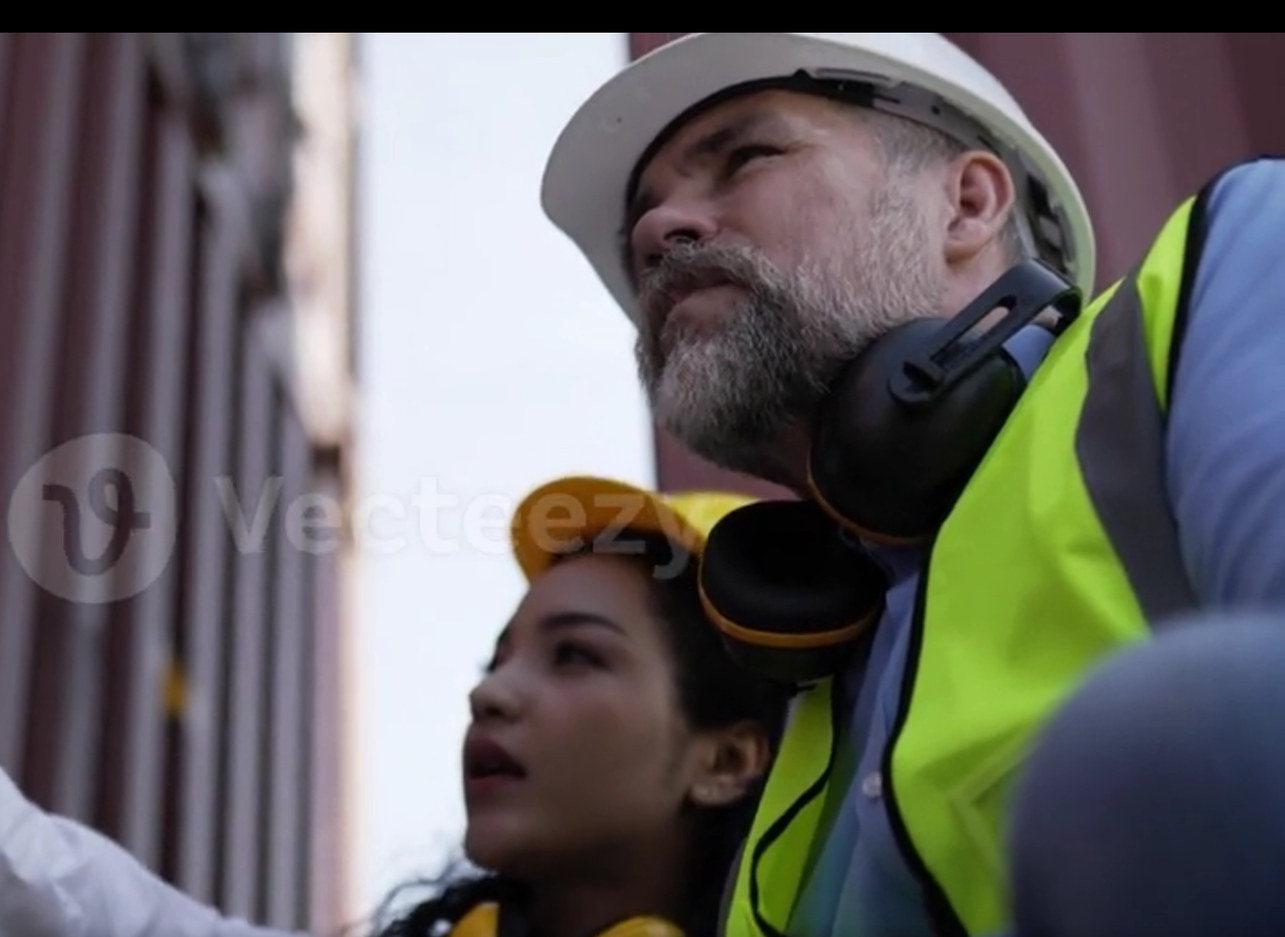safety_helmet: (538, 28, 1099, 549)
